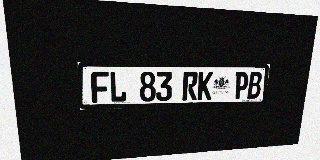3: (156, 72, 172, 101)
8: (140, 71, 156, 102)
B: (247, 72, 262, 99)
F: (91, 71, 109, 103)
K: (197, 72, 213, 100)
L: (109, 71, 127, 102)
P: (233, 72, 249, 99)
R: (182, 72, 198, 100)
